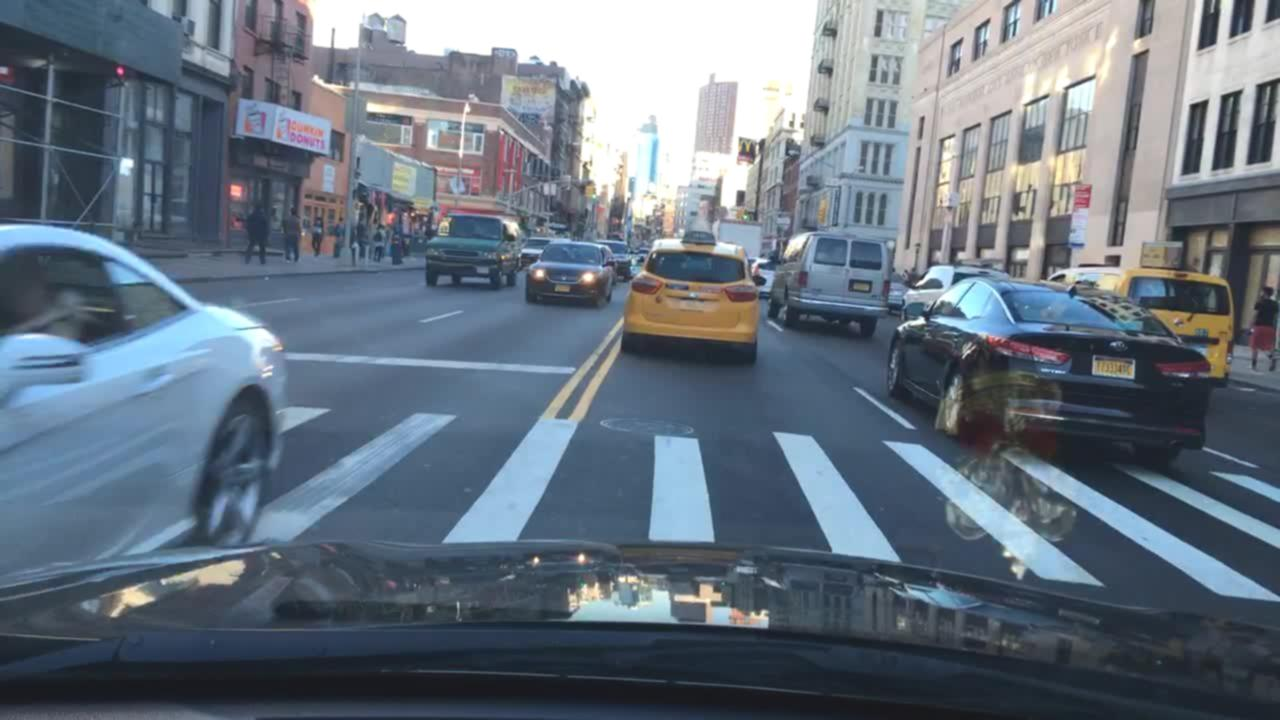Nissan: (1172, 314, 1185, 331)
